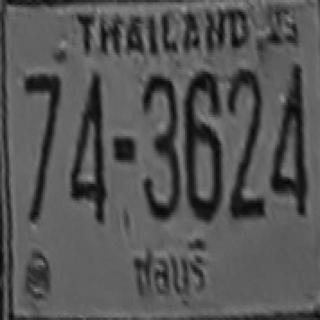N02: (226, 68, 262, 202), (226, 68, 262, 192)
N03: (140, 73, 178, 219)
N04: (68, 70, 106, 221), (269, 63, 307, 214)
N06: (183, 70, 221, 218)
N07: (24, 73, 60, 216), (23, 72, 61, 191), (23, 73, 61, 166)
P13: (125, 237, 210, 302)
